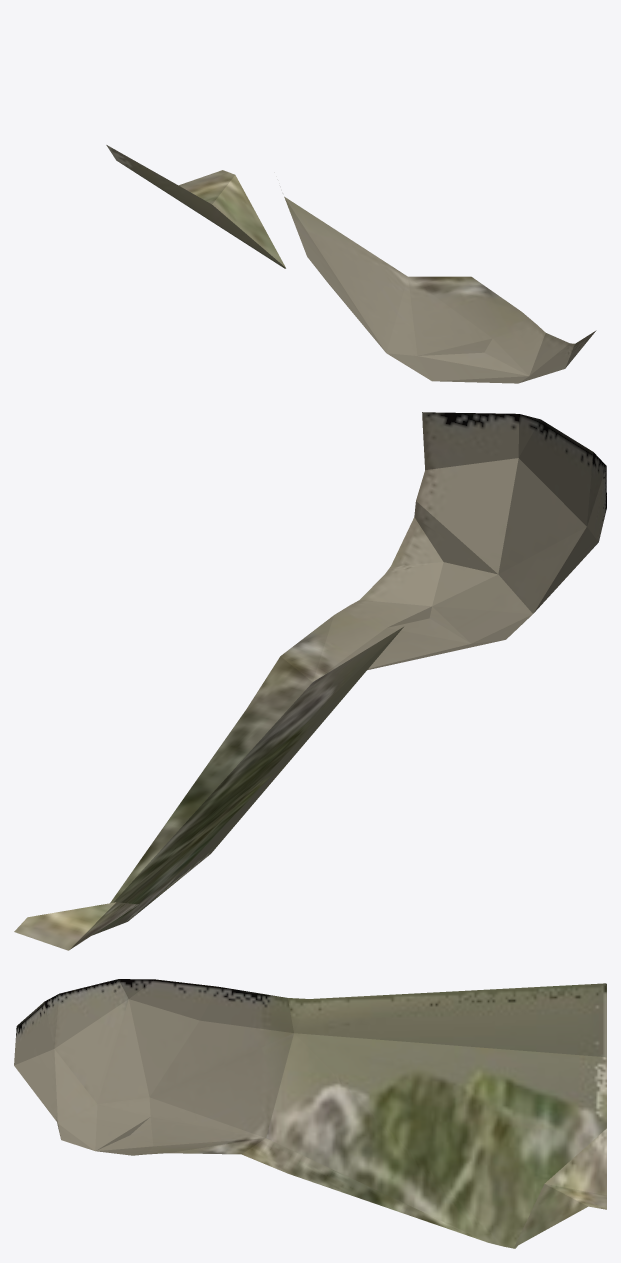
3 views of the same model, one above another, from view 1: azimuth 30°, elevation 25°; view 2: azimuth 150°, elevation 25°; view 3: azimuth 270°, elevation 25° (orthographic). The views are drawn at different scales.
Size of the model in its own units: 1.62 by 1.82 by 5.13.
Materials: 1 (1 with a texture image).
